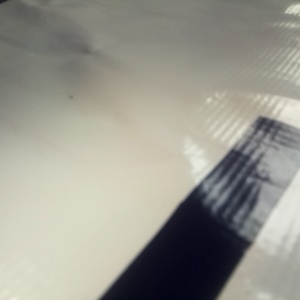top_right: (41, 37, 132, 72)
